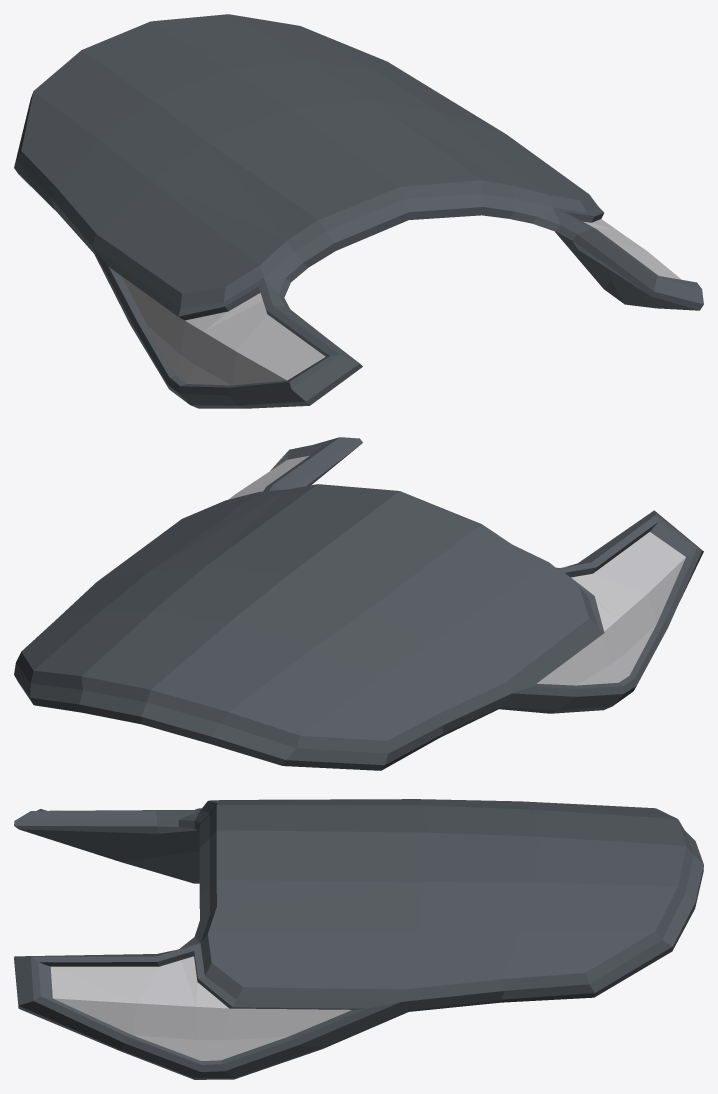
File: Fighter_06_Rear_Top_Frame.fbx
3 views of the same model, one above another, from view 1: azimuth 30°, elevation 25°; view 2: azimuth 150°, elevation 25°; view 3: azimuth 270°, elevation 25° (orthographic). The views are drawn at different scales.
Parts seen in each view (by area): view 1: Fighter_06_Rear_Top_Frame; view 2: Fighter_06_Rear_Top_Frame; view 3: Fighter_06_Rear_Top_Frame.
Boxes of the visible parts, x1,y1,x2,y2 form: Fighter_06_Rear_Top_Frame: (14,14,703,408); Fighter_06_Rear_Top_Frame: (14,437,703,770); Fighter_06_Rear_Top_Frame: (14,799,703,1079).
Size of the model in its own units: 383 by 129 by 531.
Materials: 1 (1 with a texture image).
